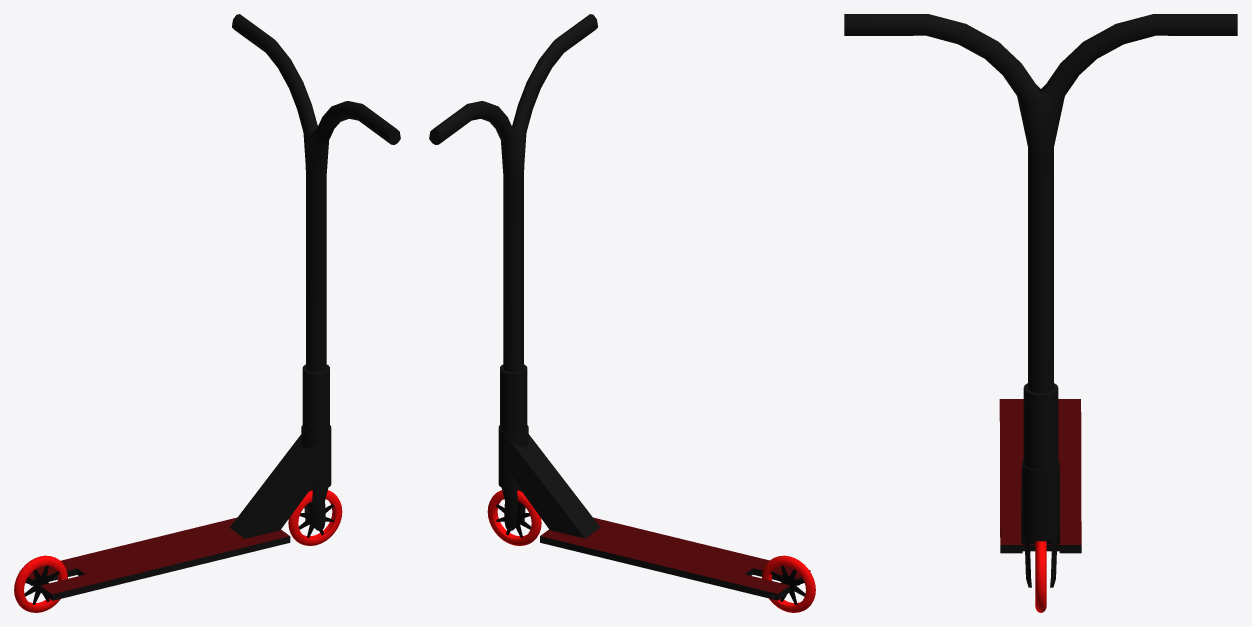
Rendered from scooter3Dfini.fbx.
3 views of the same model, side by side, from view 1: azimuth 30°, elevation 25°; view 2: azimuth 150°, elevation 25°; view 3: azimuth 270°, elevation 25° (orthographic). The views are drawn at different scales.
Parts seen in each view (by area): view 1: Deck, Handle, Wheel Back, Wheel Front; view 2: Deck, Handle, Wheel Back, Wheel Front; view 3: Handle, Deck, Wheel Front.
Part boxes in pixels (x1,y1,x2,y2): Deck: (19,425,331,600); Handle: (232,14,400,530); Wheel Back: (14,555,67,612); Wheel Front: (288,490,342,545); Deck: (498,425,810,600); Handle: (429,14,597,530); Wheel Back: (762,555,815,612); Wheel Front: (487,490,541,545); Handle: (844,14,1237,587); Deck: (999,399,1081,553); Wheel Front: (1035,541,1046,612).
Bounding box in the file's own units: 69.2 × 95.61 × 57.33.
